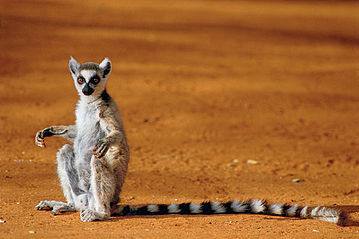cat: (31, 54, 349, 225)
